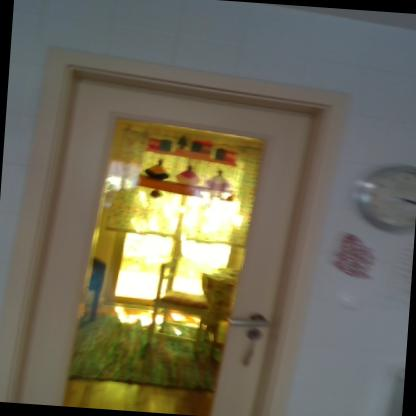closed: (20, 47, 348, 412)
